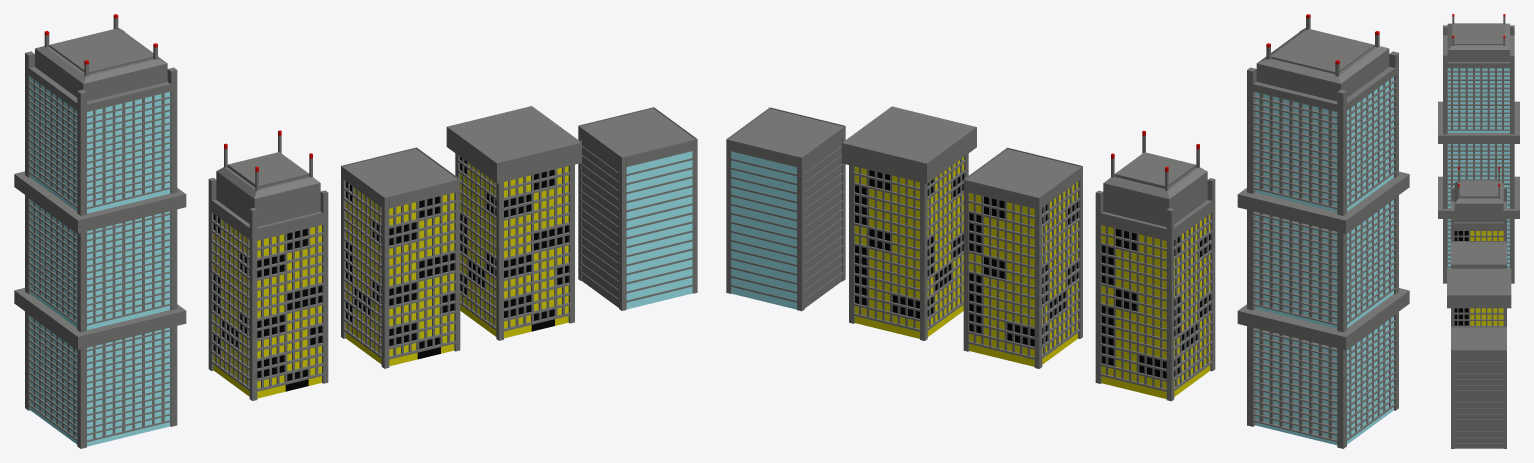
File: Town_Pack.fbx
3 renders of one model, left to right at view 1: azimuth 30°, elevation 25°; view 2: azimuth 150°, elevation 25°; view 3: azimuth 270°, elevation 25°, orthographic. The views are drawn at different scales.
Parts seen in each view (by area): view 1: Cube.017, Cube.005, Cube.003, Cube.006, Cube.001; view 2: Cube.017, Cube.005, Cube.003, Cube.006, Cube.001; view 3: Cube.017, Cube.001, Cube.003, Cube.005, Cube.006.
Boxes of the visible parts, <box> form: Cube.017: <box>14,14,186,448</box>; Cube.005: <box>208,130,328,400</box>; Cube.003: <box>446,106,581,340</box>; Cube.006: <box>341,147,460,368</box>; Cube.001: <box>578,107,697,310</box>; Cube.017: <box>1237,14,1409,448</box>; Cube.005: <box>1095,130,1215,401</box>; Cube.003: <box>841,106,976,340</box>; Cube.006: <box>963,147,1082,368</box>; Cube.001: <box>726,107,845,311</box>; Cube.017: <box>1438,14,1519,283</box>; Cube.001: <box>1451,326,1506,448</box>; Cube.003: <box>1447,268,1511,326</box>; Cube.005: <box>1451,166,1506,240</box>; Cube.006: <box>1451,241,1506,268</box>.
Size of the model in its own units: 3363 by 1934 by 590.
